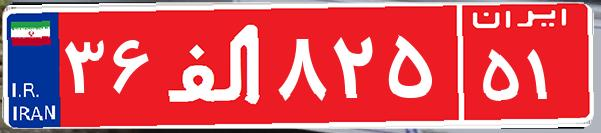1: (525, 38, 570, 115)
2: (330, 28, 385, 110)
3: (57, 26, 110, 107)
5: (385, 28, 445, 110), (475, 38, 525, 113)
6: (110, 28, 158, 105)
8: (273, 28, 330, 110)
الف: (158, 15, 273, 115)
